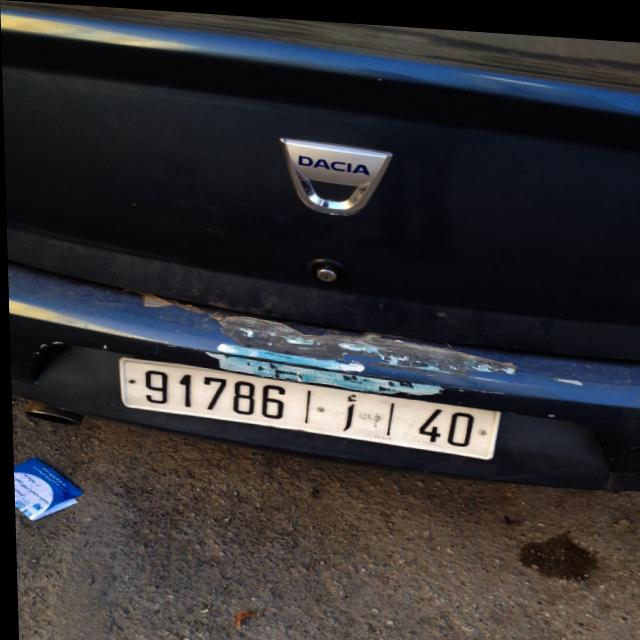License-Plate: (117, 356, 499, 453)
